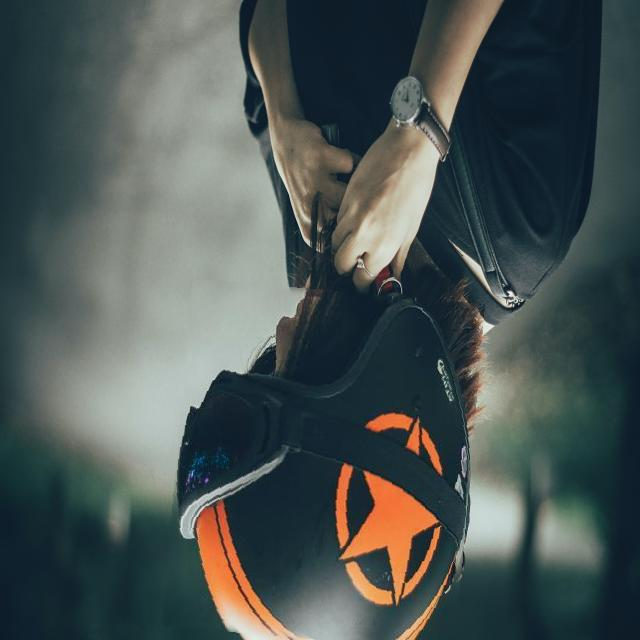helmet: (169, 285, 478, 640)
